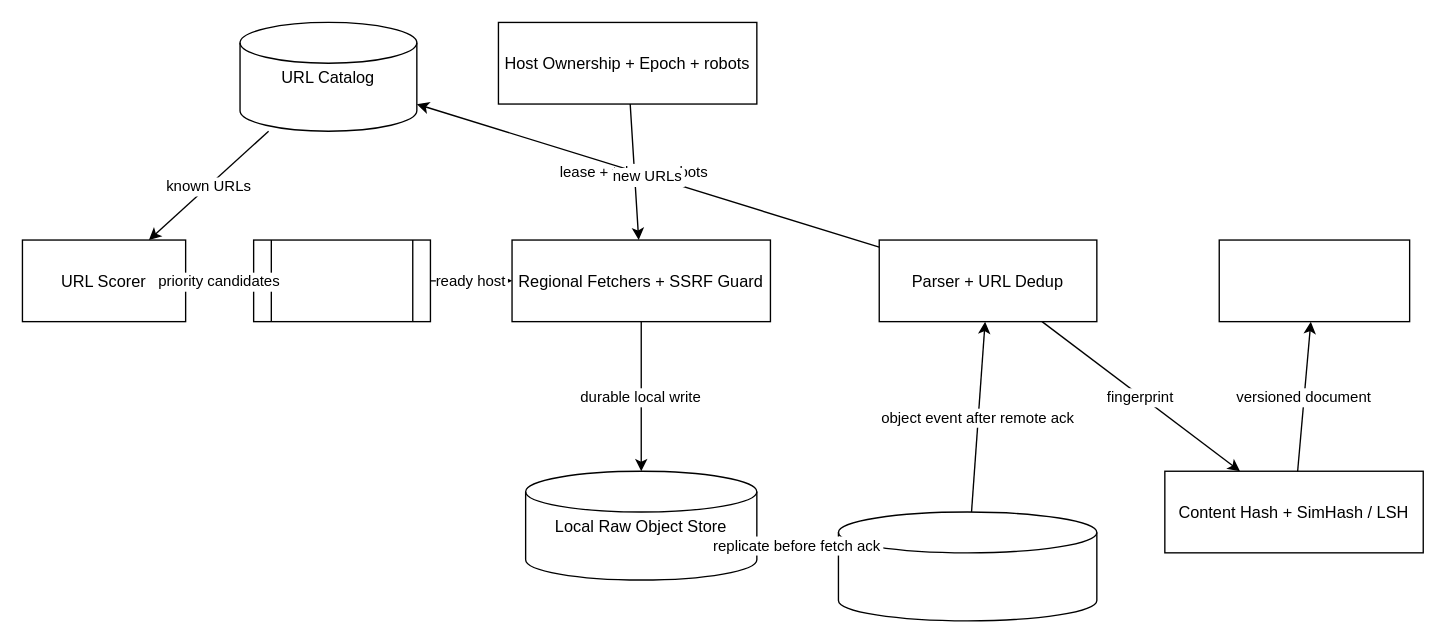
Some shapes in this 1446 by 643 pixel diagram are drawn without their labels. The shapes that lost their labels are listed below. From the top down, each one's centre as x and y in pixels, then its label:
At pixel 341 280: "Host Frontier".
At pixel 1314 280: "Search Indexer".
At pixel 967 566: "Cross-Region Durable Replica".
